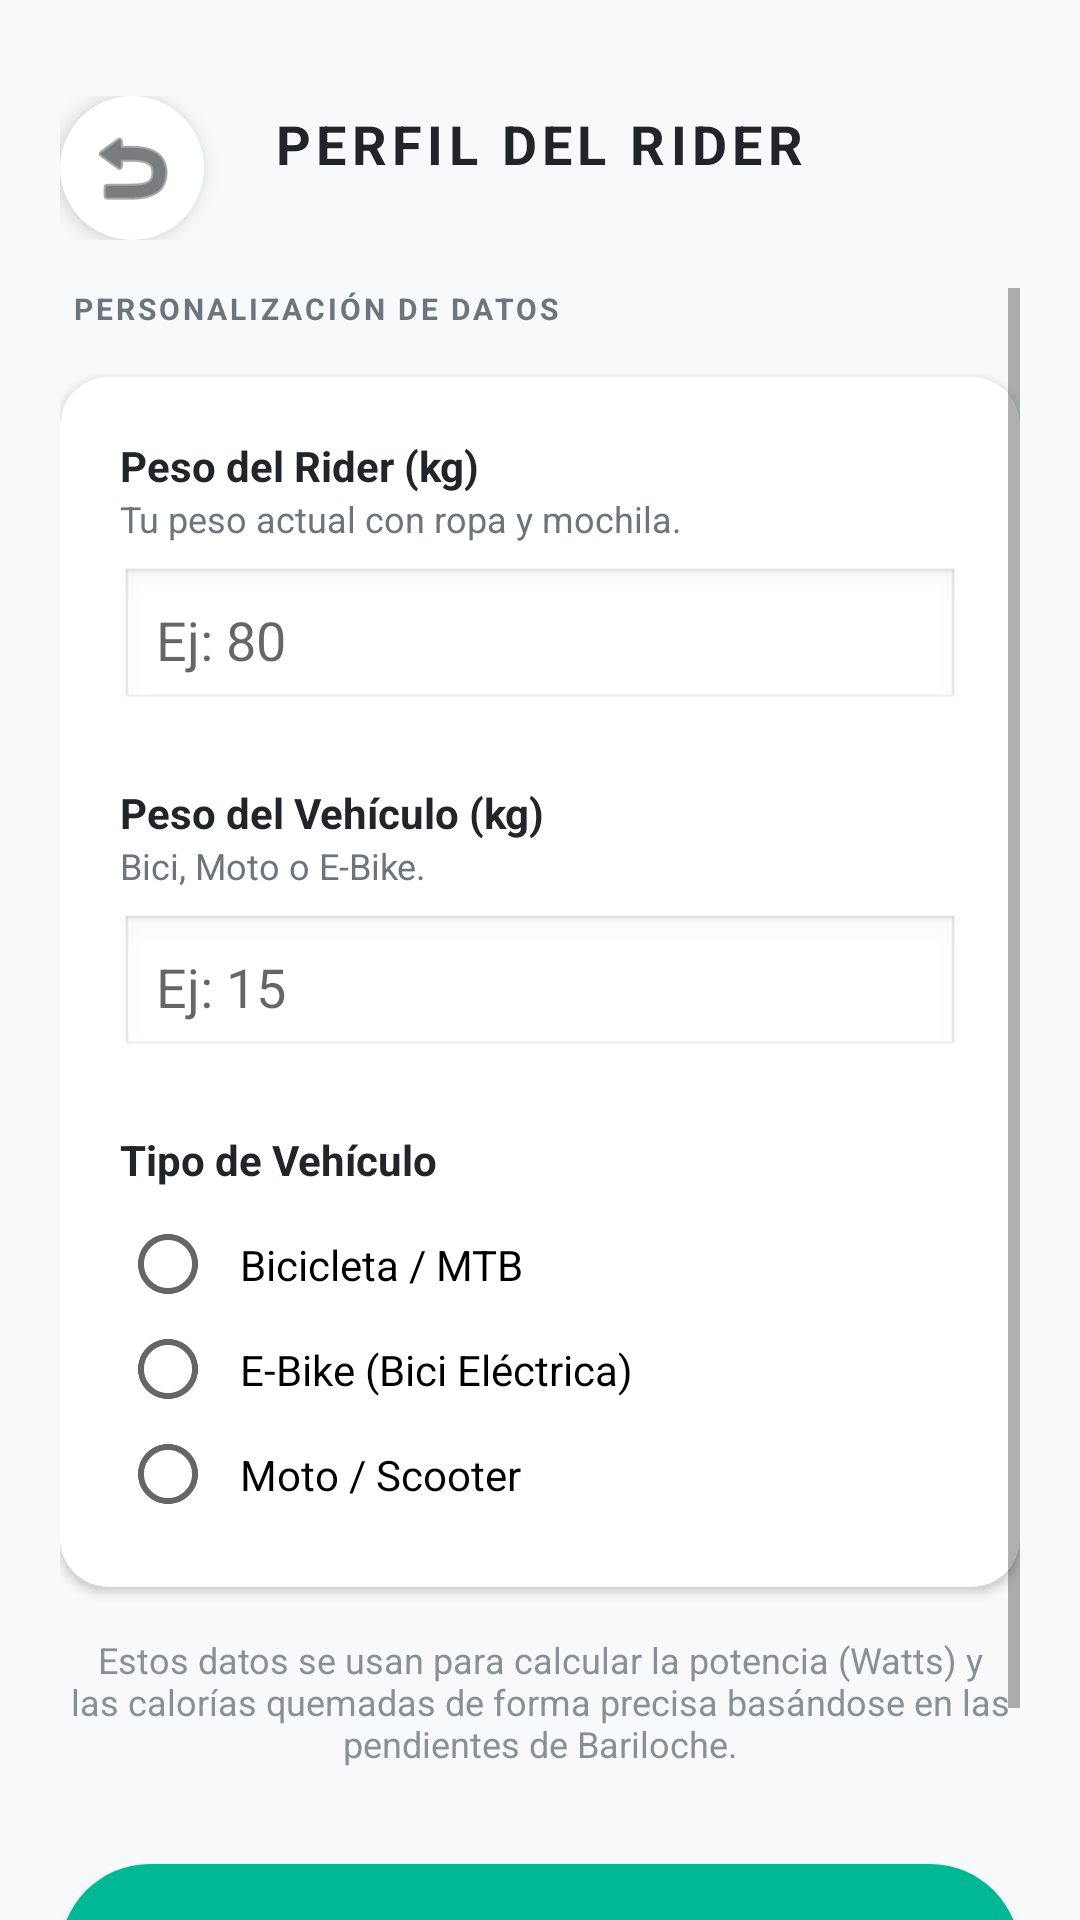

Where to tap for icons on this 1080x1920 app screen, as (x,y):
revert: (114,181)
